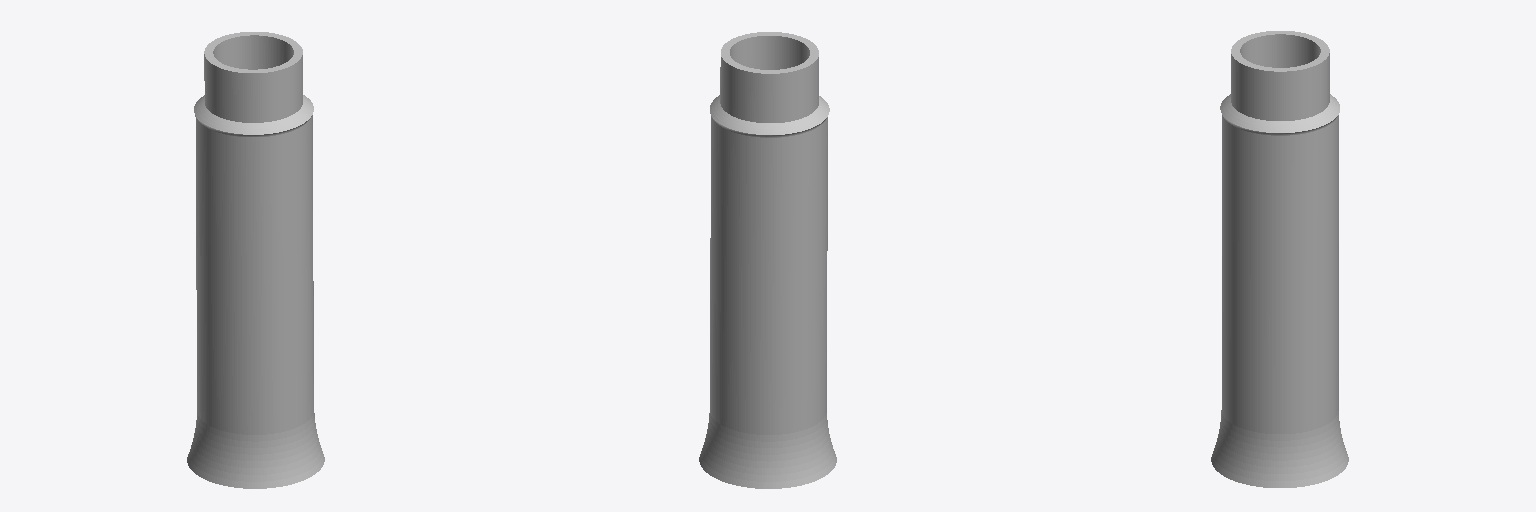
Rendered from bottle-test.obj.
The picture shows the model from 3 angles: view 1: azimuth 30°, elevation 25°; view 2: azimuth 150°, elevation 25°; view 3: azimuth 270°, elevation 25°; orthographic projection.
Visible parts, largest first — view 1: bottle_project; view 2: bottle_project; view 3: bottle_project.
Part boxes in pixels (x1,y1,x2,y2): bottle_project: (187, 32, 324, 488); bottle_project: (699, 32, 836, 488); bottle_project: (1211, 31, 1348, 487).
Bounding box in the file's own units: 2.78 × 9.12 × 2.78.